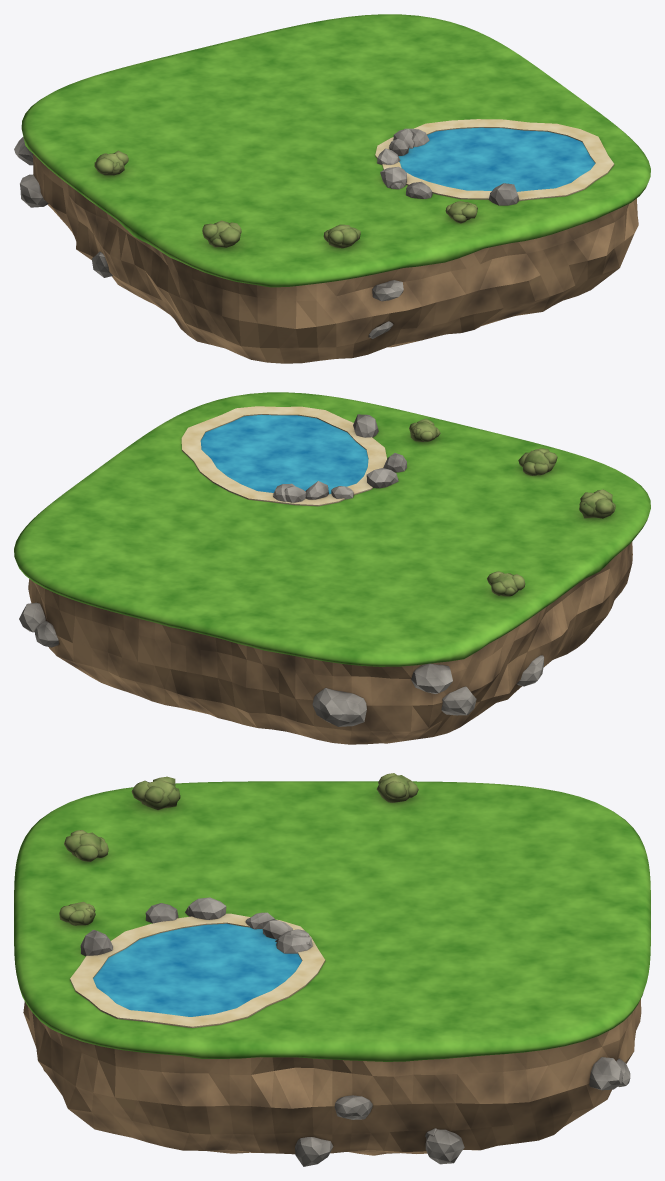
Rendered from CapeTownHarbor_Island.fbx.
The picture shows the model from 3 angles, top to bottom: view 1: azimuth 30°, elevation 25°; view 2: azimuth 150°, elevation 25°; view 3: azimuth 270°, elevation 25°; orthographic projection. The views are drawn at different scales.
Parts seen in each view (by area): view 1: Island_Top, Island_Body; view 2: Island_Top, Island_Body; view 3: Island_Top, Island_Body.
Part boxes in pixels (<box>): Island_Top: <box>21,14,650,287</box>; Island_Body: <box>14,137,638,363</box>; Island_Top: <box>14,392,650,666</box>; Island_Body: <box>19,542,632,744</box>; Island_Top: <box>14,773,650,1061</box>; Island_Body: <box>23,999,641,1166</box>.
Size of the model in its own units: 16.14 by 5.88 by 16.07.
Materials: 1 (1 with a texture image).
